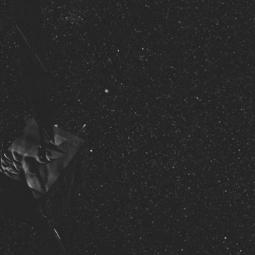smart_1: (0, 109, 85, 220)
